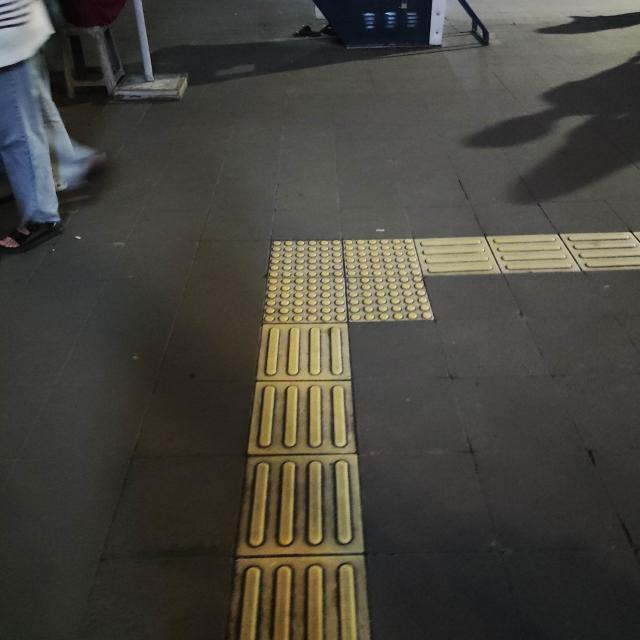kanan: (223, 199, 580, 351)
